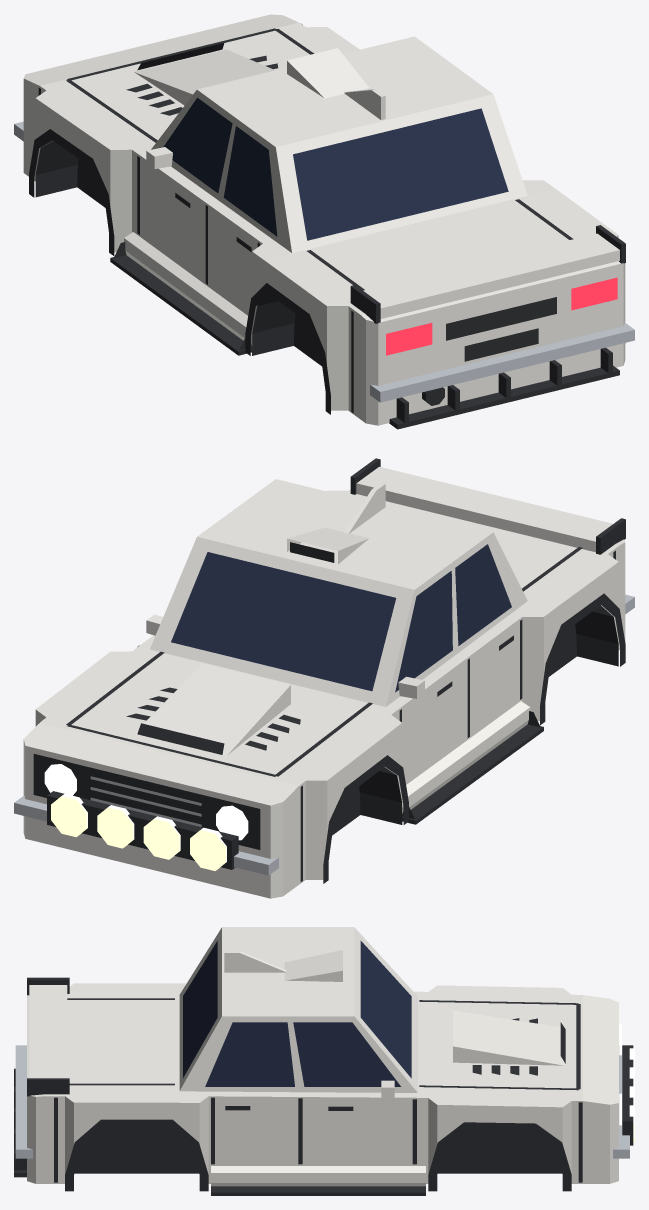
Rendered from Yama.glb.
The picture shows the model from 3 angles, top to bottom: view 1: azimuth 30°, elevation 25°; view 2: azimuth 150°, elevation 25°; view 3: azimuth 270°, elevation 25°; orthographic projection. The views are drawn at different scales.
Parts seen in each view (by area): view 1: RearWindow, BumperRear, Trunk, Roof, Pillars, Hood, Opt_Wing_Rally_WingBlade, Door_FL, BumperFront, Fender_RL, Bumper, Fender_FL (+22 smaller); view 2: Windshield, Hood, BumperFront, Roof, Pillars, Opt_Wing_Rally_WingBlade, Opt_Hood_Scoop_HoodScoop, Trunk, Grille, Door_FL, Opt_Bumper_Lamps_RallyLamp, Fender_FL (+23 smaller); view 3: Hood, Trunk, Roof, WheelWell, Pillars, Door_FR, BumperFront, Door_RR, Fender_FR, Window_FR, Opt_Hood_Scoop_HoodScoop, Fender_RR (+20 smaller).
Boxes of the visible parts, <box> form: RearWindow: <box>293,108,508,240</box>; BumperRear: <box>355,261,625,425</box>; Trunk: <box>264,189,618,310</box>; Roof: <box>197,36,492,146</box>; Pillars: <box>151,90,527,253</box>; Hood: <box>36,22,359,154</box>; Opt_Wing_Rally_WingBlade: <box>363,233,619,318</box>; Door_FL: <box>138,155,208,286</box>; BumperFront: <box>23,14,298,181</box>; Fender_RL: <box>252,243,355,415</box>; Bumper: <box>14,121,634,402</box>; Fender_FL: <box>35,86,138,252</box>; Windshield: <box>171,552,396,691</box>; Hood: <box>36,646,401,785</box>; BumperFront: <box>23,722,298,898</box>; Roof: <box>197,479,492,589</box>; Pillars: <box>150,532,527,706</box>; Opt_Wing_Rally_WingBlade: <box>356,466,612,552</box>; Opt_Hood_Scoop_HoodScoop: <box>134,663,290,756</box>; Trunk: <box>326,489,618,607</box>; Grille: <box>33,754,260,849</box>; Door_FL: <box>398,658,467,784</box>; Opt_Bumper_Lamps_RallyLamp: <box>51,794,226,870</box>; Fender_FL: <box>299,710,402,884</box>; Hood: <box>417,985,582,1107</box>; Trunk: <box>54,983,179,1102</box>; Roof: <box>222,927,354,1016</box>; WheelWell: <box>74,1127,562,1173</box>; Pillars: <box>179,927,417,1092</box>; Door_FR: <box>300,1097,416,1165</box>; BumperFront: <box>583,995,618,1183</box>; Door_RR: <box>211,1096,300,1165</box>; Fender_FR: <box>417,1098,582,1183</box>; Window_FR: <box>293,1022,400,1086</box>; Opt_Hood_Scoop_HoodScoop: <box>453,1010,564,1065</box>; Fender_RR: <box>54,1096,210,1183</box>.
Bounding box in the file's own units: 6.6 × 4.46 × 13.85.
